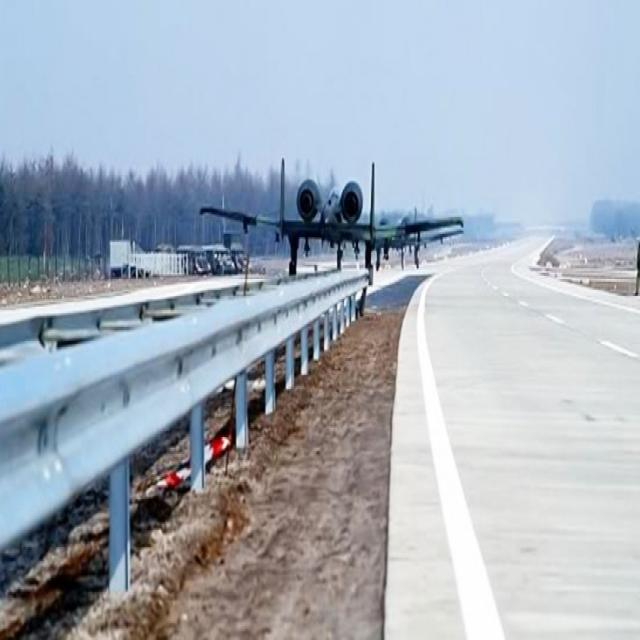MIL_Plane: (200, 155, 464, 285), (375, 205, 465, 271)
